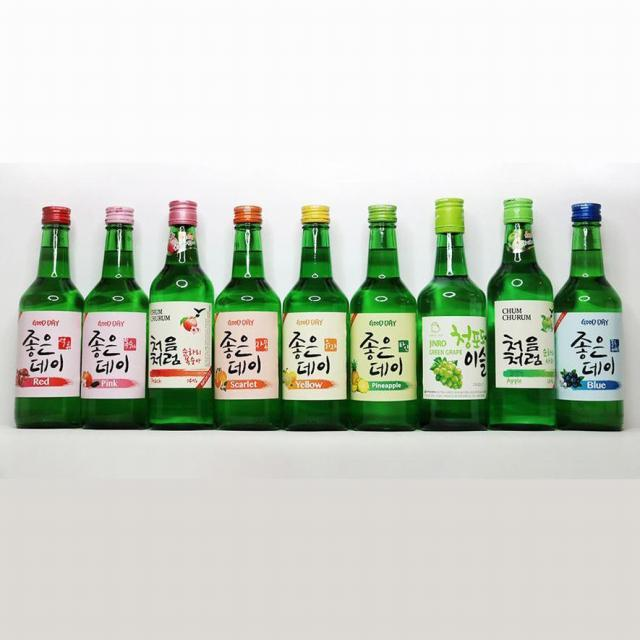soju-bottle: (414, 198, 489, 434), (486, 202, 558, 432), (280, 204, 352, 432), (213, 204, 283, 430), (146, 198, 214, 428), (559, 202, 627, 432), (13, 203, 82, 428), (350, 204, 418, 432), (80, 205, 148, 428)
